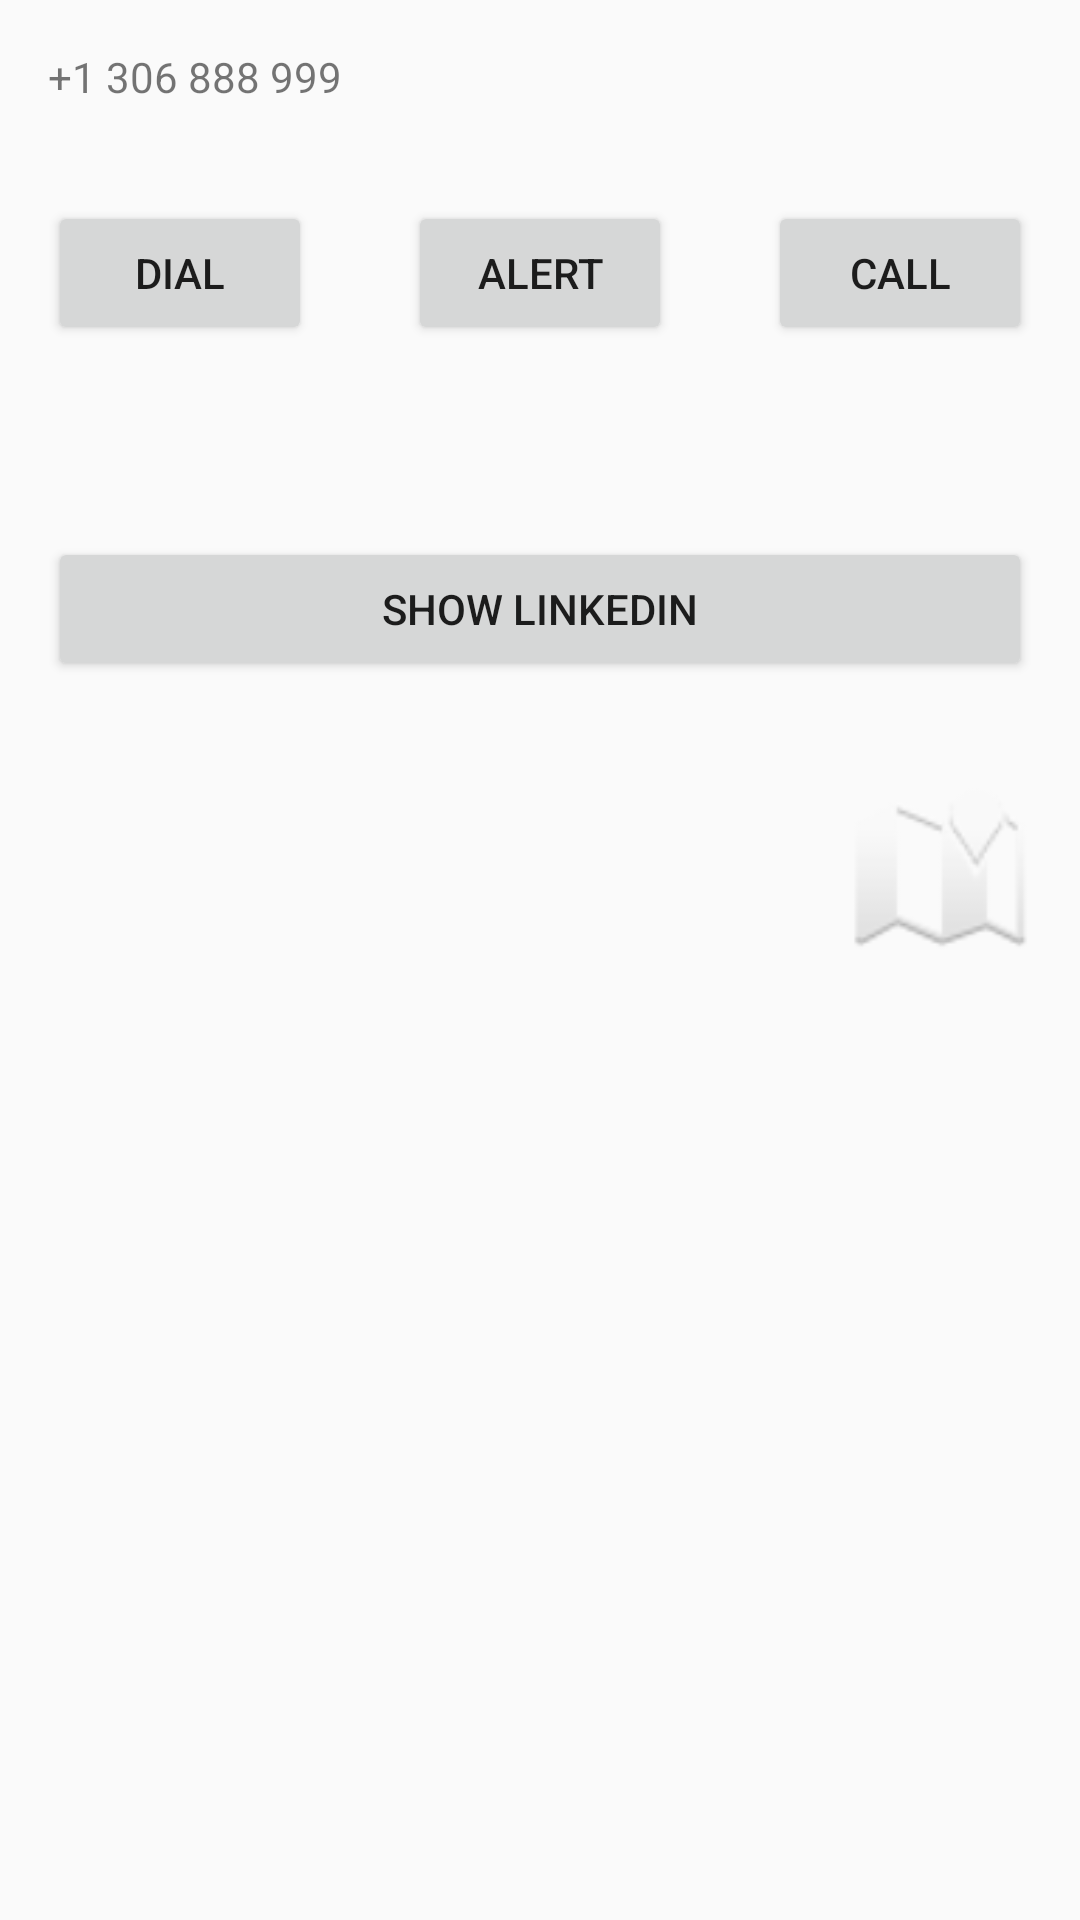

Icons on this 1080 × 1920 Android screen, each with its box as (x1, y1, x2, y2):
map: (855, 809, 1025, 945)
